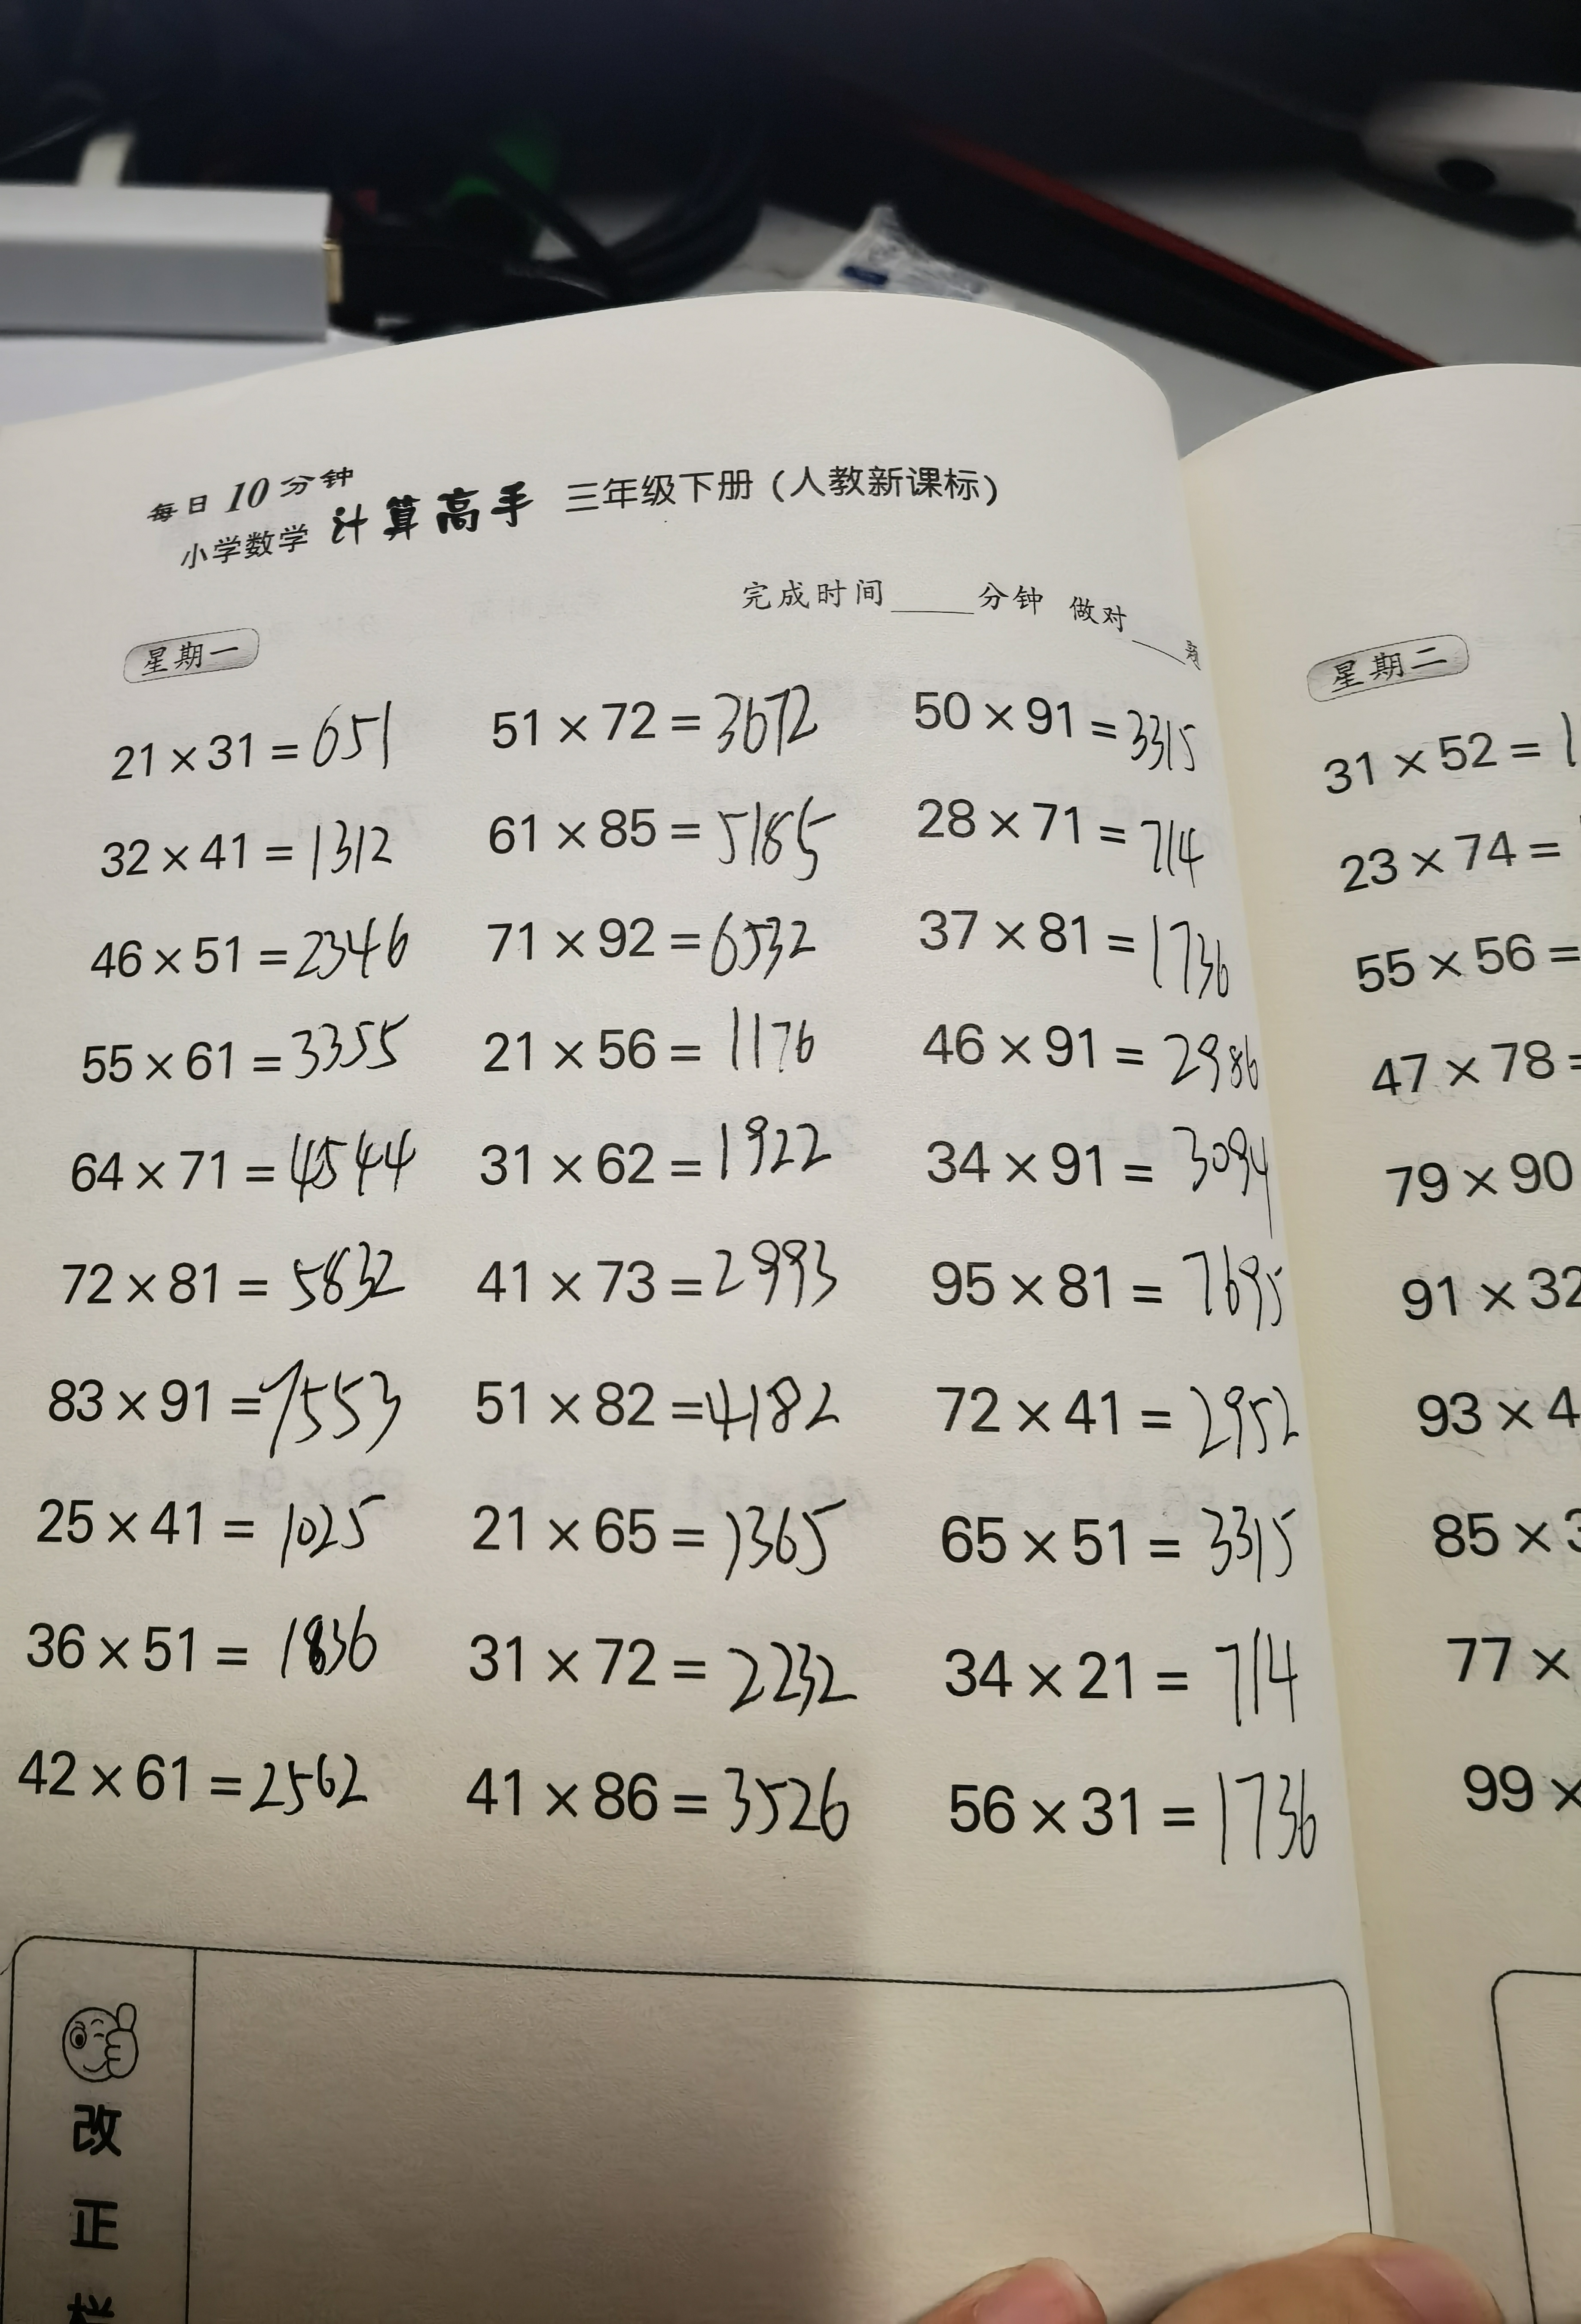equation: (448, 1595, 863, 1722), (949, 1749, 1346, 1872), (919, 1343, 1315, 1466), (411, 1740, 870, 1840), (450, 1364, 866, 1472), (916, 1225, 1332, 1332), (7, 1713, 393, 1828), (28, 1228, 438, 1336), (18, 1472, 422, 1579), (466, 1488, 870, 1595), (912, 644, 1223, 782), (464, 648, 842, 759), (944, 1491, 1322, 1597), (916, 1113, 1315, 1212), (933, 1616, 1309, 1719), (910, 891, 1270, 993), (921, 1004, 1290, 1101), (62, 1110, 423, 1209), (72, 999, 420, 1101), (7, 1602, 420, 1687), (471, 893, 838, 988), (44, 1361, 411, 1451), (74, 685, 409, 782), (485, 796, 849, 881), (459, 1001, 829, 1083), (462, 1248, 856, 1325), (907, 791, 1225, 884), (92, 907, 422, 997), (466, 1119, 850, 1195), (86, 798, 402, 888)
